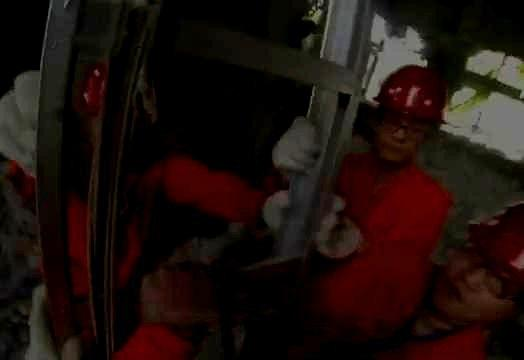helmet: (430, 202, 524, 327), (372, 64, 449, 163), (78, 58, 156, 146)
